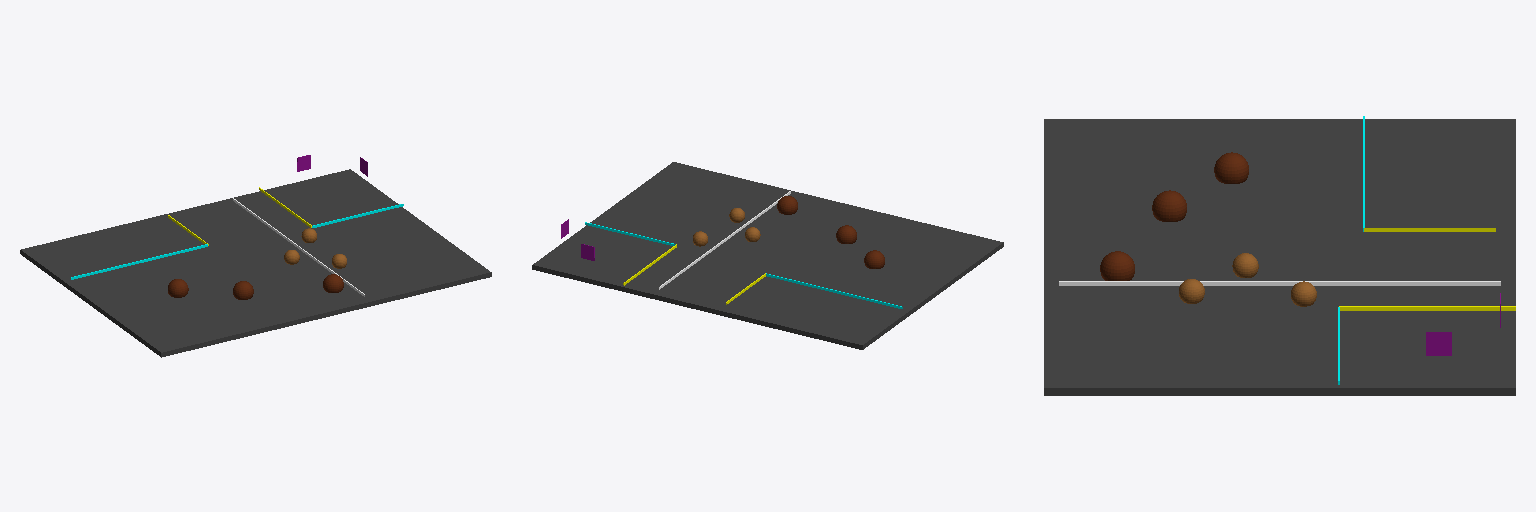
URDF robot description (artemis_arena_proxy):
<?xml version="1.0"?>
<robot name="artemis_arena_proxy">

  <link name="arena_base_link">

    <visual name="lunar_surface">
      <origin xyz="0 0 -0.1" rpy="0 0 0" />
      <geometry>
        <box size="7.22 5.34 0.1" />
      </geometry>
      <material name="dark_grey">
        <color rgba="0.3 0.3 0.3 1"/>
      </material>
    </visual>

    <visual name="zone_split_vertical">
      <origin xyz="0.94 0 0.01" rpy="0 0 0" />
      <geometry><box size="0.02 5.0 0.05" /></geometry>
      <material name="white"><color rgba="1 1 1 1"/></material>
    </visual>
    
    <visual name="starting_box_horizontal">
      <origin xyz="2.61 0.67 0.01" rpy="0 0 0" />
      <geometry><box size="2.0 0.02 0.05" /></geometry>
      <material name="cyan"><color rgba="0 1 1 1"/></material>
    </visual>

    <visual name="starting_box_vertical">
      <origin xyz="1.61 1.67 0.01" rpy="0 0 0" />
      <geometry><box size="0.02 2.0 0.05" /></geometry>
      <material name="yellow"><color rgba="1 1 0 1"/></material>
    </visual>

    <visual name="excavation_box_vertical">
      <origin xyz="-0.5 1.7 0.01" rpy="0 0 0" />
      <geometry><box size="0.02 1.5 0.05" /></geometry>
      <material name="yellow"/>
    </visual>

    <visual name="excavation_box_horizontal">
      <origin xyz="-2.0 0.95 0.01" rpy="0 0 0" />
      <geometry><box size="3.0 0.02 0.05" /></geometry>
      <material name="cyan"/>
    </visual>

    <visual name="tag_7">
      <origin xyz="3.4 1.8 0.4" rpy="0 -1.58 0" />
      <geometry><box size="0.3 0.3 0.005" /></geometry>
      <material name="purple"><color rgba="0.6 0.1 0.6 1"/></material>
    </visual>

    <visual name="tag_11">
      <origin xyz="2.5 2.5 0.4" rpy="1.58 1.58 0" />
      <geometry><box size="0.3 0.3 0.005" /></geometry>
      <material name="purple"/>
    </visual>

    <visual name="rock_round_1">
      <origin xyz="1.32307 0.270163 0.05" rpy="0 0 0.846674" />
      <geometry><sphere radius="0.15" /></geometry>
      <material name="brown"><color rgba="0.6 0.4 0.2 1"/></material>
    </visual>
    <visual name="rock_round_2">
      <origin xyz="0.56 -0.39 0.05" rpy="0 0 -0.80" />
      <geometry><sphere radius="0.15" /></geometry>
      <material name="brown"/>
    </visual>
    <visual name="rock_round_3">
      <origin xyz="1.25 -1.0 0.05" rpy="0 0 2.55" />
      <geometry><sphere radius="0.15" /></geometry>
      <material name="brown"/>
    </visual>
    <visual name="rock_rough_1">
      <origin xyz="-2.01943 -0.546468 0.05" rpy="0 0 -2.17367" />
      <geometry><sphere radius="0.2" /></geometry>
      <material name="dark_brown"><color rgba="0.4 0.2 0.1 1"/></material>
    </visual>
    <visual name="rock_rough_2">
      <origin xyz="0.63 -1.84 0.05" rpy="0 0 -0.62" />
      <geometry><sphere radius="0.2" /></geometry>
      <material name="dark_brown"/>
    </visual>
    <visual name="rock_rough_3">
      <origin xyz="-1.0 -1.25 0.05" rpy="0 0 -2.17367" />
      <geometry><sphere radius="0.2" /></geometry>
      <material name="dark_brown"/>
    </visual>

  </link>
</robot>

--- Facts derived from the render (not from the file) ---
The picture shows the robot from 3 angles, left to right: view 1: azimuth 30°, elevation 25°; view 2: azimuth 150°, elevation 25°; view 3: azimuth 270°, elevation 25°; orthographic projection.
Model artemis_arena_proxy with 1 links and 0 joints (none), rooted at arena_base_link, posed every joint at zero.
Links seen in each view (by area): view 1: arena_base_link; view 2: arena_base_link; view 3: arena_base_link.
Link boxes in pixels (<box>): arena_base_link: <box>20,155,491,357</box>; arena_base_link: <box>532,162,1003,349</box>; arena_base_link: <box>1044,116,1515,395</box>.
Bounding box of the posed robot: 7.22 × 5.34 × 0.7014 m (x, y, z).
Geometry: primitives only (box / cylinder / sphere), no mesh files.
